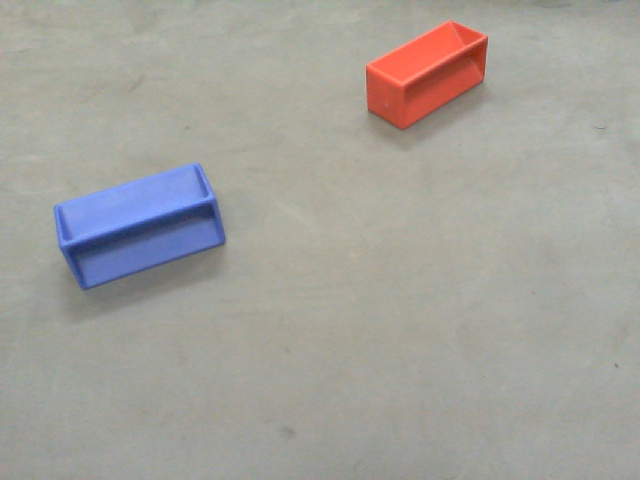BlueSample: (51, 160, 227, 293)
RedSample: (351, 15, 491, 131)
